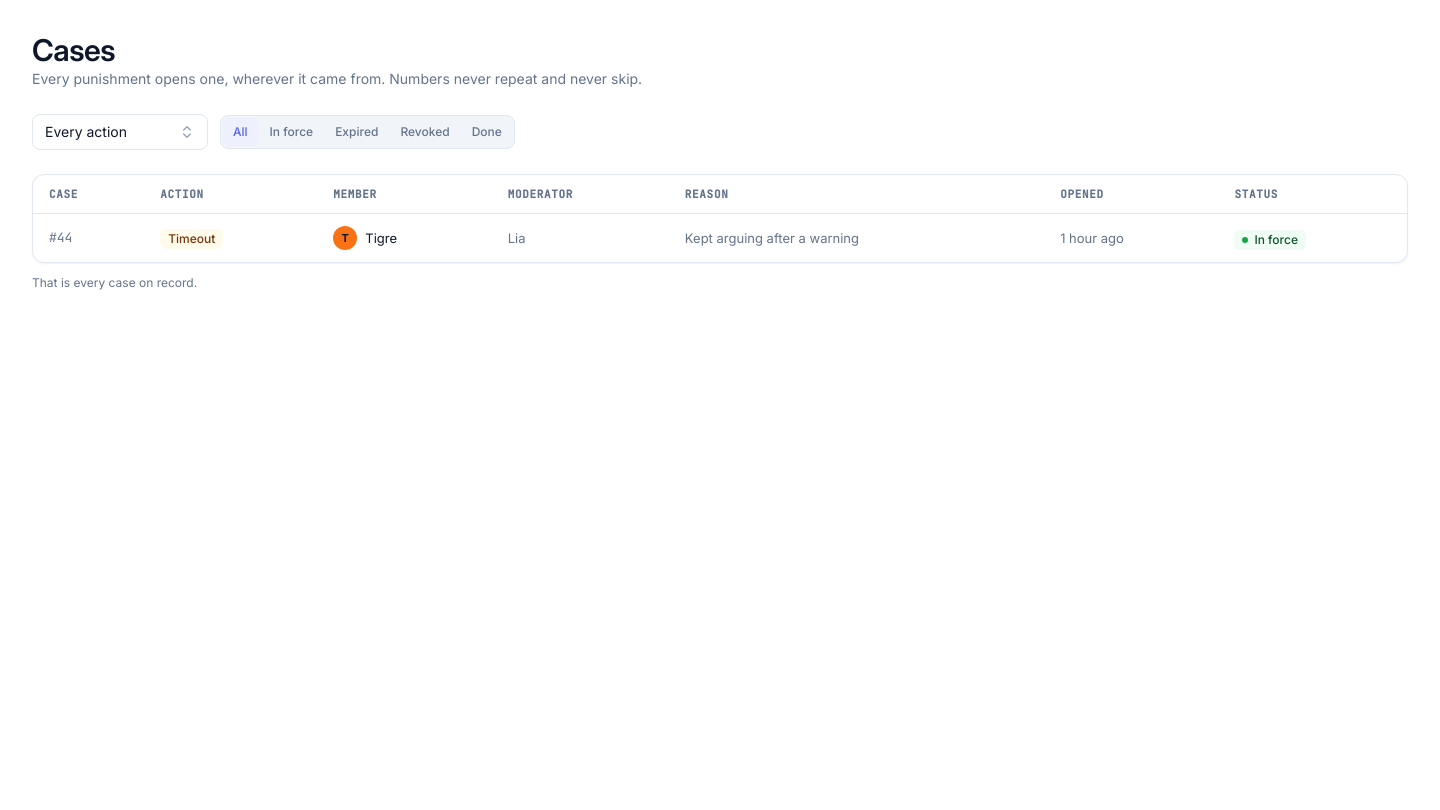
Test case: CasesScreen › says a case with no end has none, instead of showing an empty duration
Click the button with aria-label "Open case 44": (720, 238) [33,214,1407,262]
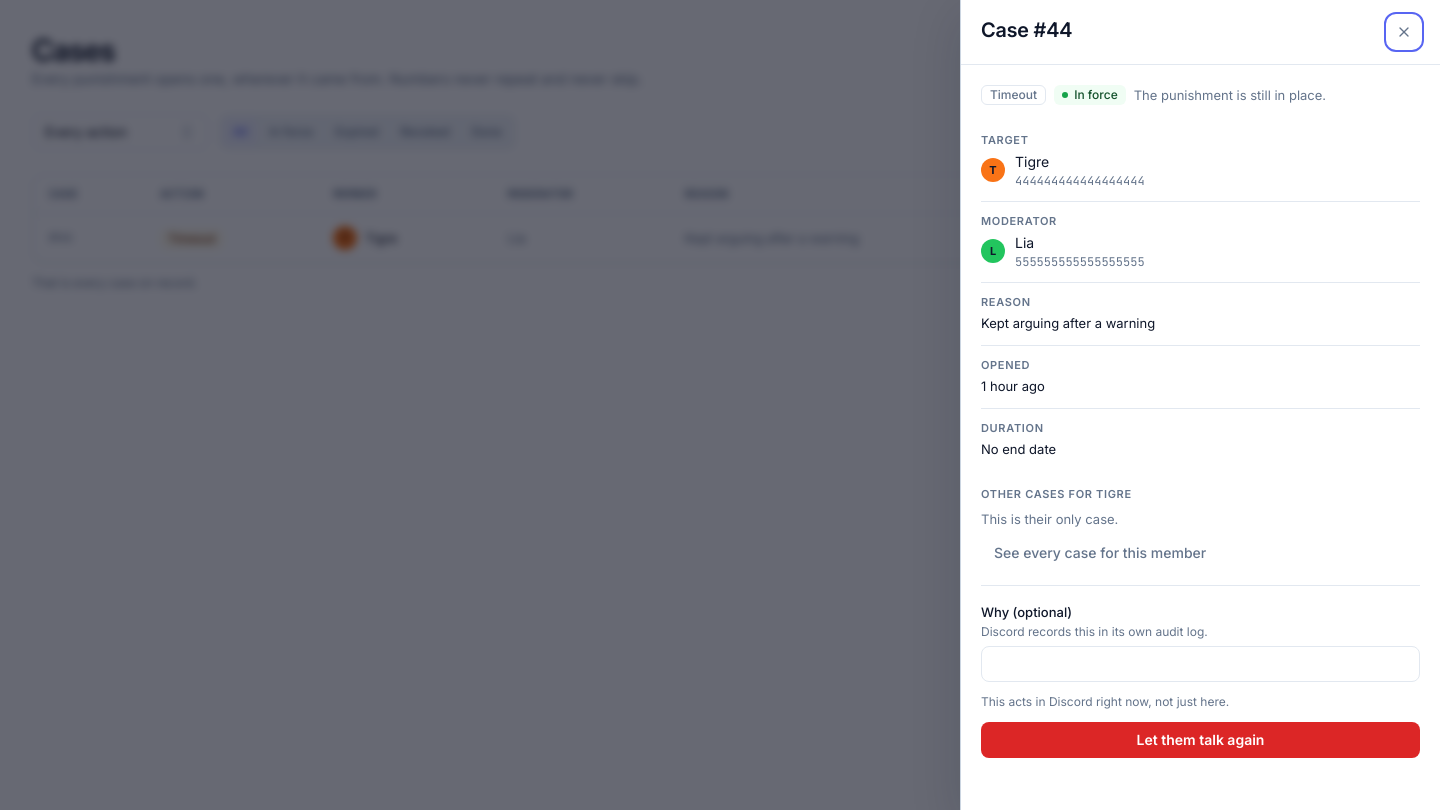
Check: the text "No end date" is shown, box [981,441,1056,457]
